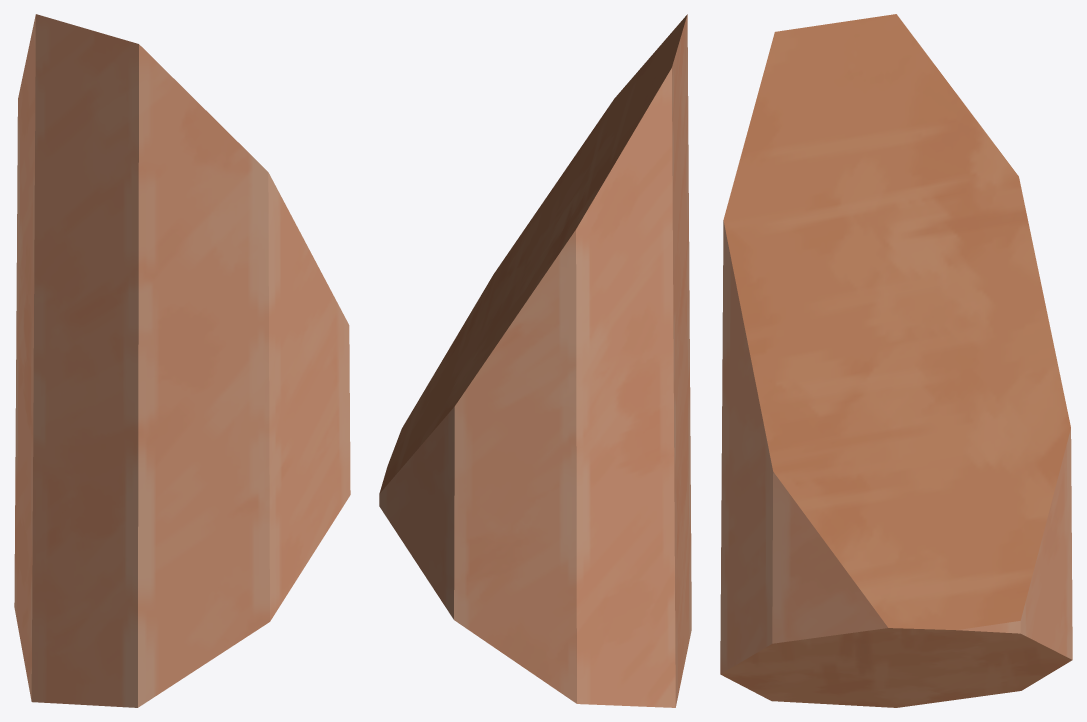
File: pillar_s03.fbx
The picture shows the model from 3 angles, left to right: view 1: azimuth 30°, elevation 25°; view 2: azimuth 150°, elevation 25°; view 3: azimuth 270°, elevation 25°; orthographic projection. The views are drawn at different scales.
Visible parts, largest first — view 1: pillar_s03; view 2: pillar_s03; view 3: pillar_s03.
Part boxes in pixels (x1=…): pillar_s03: x1=14, y1=14, x2=350, y2=707; pillar_s03: x1=379, y1=14, x2=691, y2=707; pillar_s03: x1=720, y1=14, x2=1072, y2=707.
Size of the model in its own units: 1.63 by 3.6 by 1.64.
